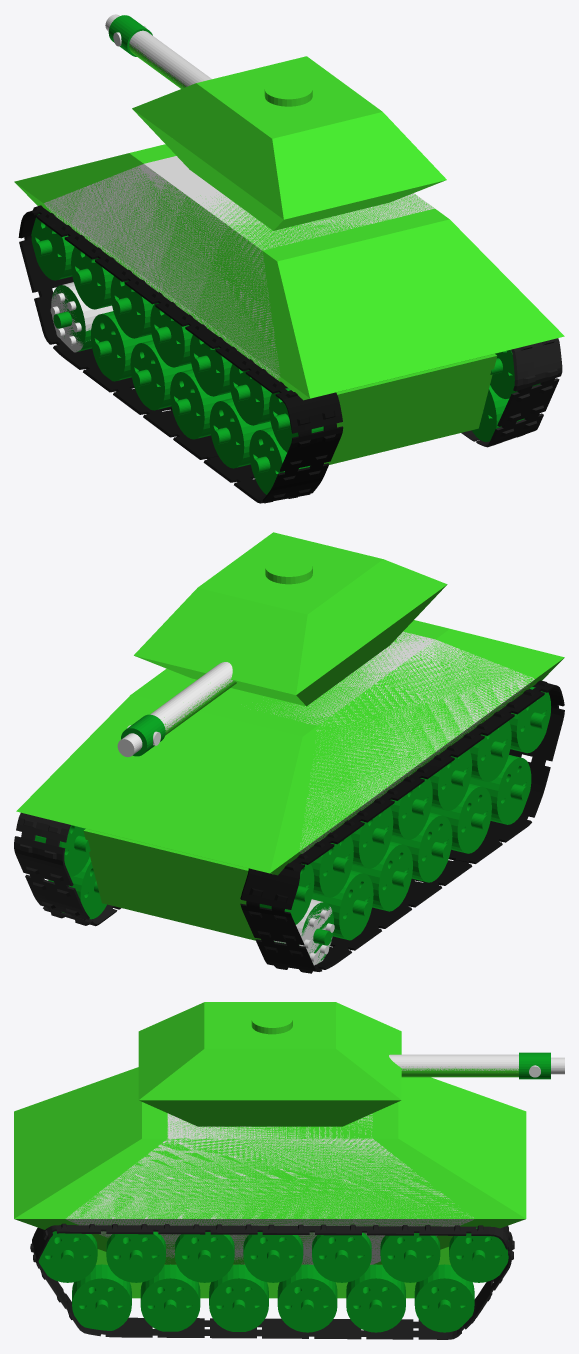
The model's file is tank.fbx.
3 views of the same model, one above another, from view 1: azimuth 30°, elevation 25°; view 2: azimuth 150°, elevation 25°; view 3: azimuth 270°, elevation 25° (orthographic). The views are drawn at different scales.
Visible parts, largest first — view 1: Tank (bottom).001, Top, Tank (bottom).003, Tack2, Cube, Track1, wheels.013, wheels.011, wheels.005, wheels.007, Extra, Tank (bottom) (+15 smaller); view 2: Tank (bottom).001, Top, Tack2, Tank (bottom).003, Cube, Track1, wheels.011, wheels.007, wheels.013, wheels.005, wheels.015, Extra (+14 smaller); view 3: Tank (bottom).001, Top, Tank (bottom).003, Track1, Tank (bottom).002, Tank (bottom), wheels.071, wheels.065, wheels.073, wheels.075, wheels.067, wheels.063 (+11 smaller).
Boxes of the visible parts, bbox=[...] form: Tank (bottom).001: bbox=[14, 144, 564, 398]; Top: bbox=[129, 43, 446, 230]; Tank (bottom).003: bbox=[44, 156, 434, 375]; Tack2: bbox=[18, 205, 343, 503]; Cube: bbox=[324, 354, 497, 464]; Track1: bbox=[461, 338, 562, 447]; wheels.013: bbox=[209, 398, 271, 468]; wheels.011: bbox=[170, 369, 231, 439]; wheels.005: bbox=[91, 311, 152, 381]; wheels.007: bbox=[130, 340, 192, 410]; Extra: bbox=[129, 30, 211, 86]; Tank (bottom): bbox=[14, 182, 540, 400]; Tank (bottom).001: bbox=[16, 620, 564, 873]; Top: bbox=[134, 532, 447, 735]; Tack2: bbox=[240, 680, 564, 973]; Tank (bottom).003: bbox=[257, 631, 534, 849]; Cube: bbox=[83, 829, 260, 940]; Track1: bbox=[14, 812, 121, 926]; wheels.011: bbox=[390, 812, 452, 882]; wheels.007: bbox=[351, 841, 412, 911]; wheels.013: bbox=[430, 783, 491, 853]; wheels.005: bbox=[311, 870, 373, 940]; wheels.015: bbox=[469, 755, 531, 824]; Extra: bbox=[150, 662, 232, 730]; Tank (bottom).001: bbox=[14, 1067, 526, 1218]; Top: bbox=[138, 1002, 518, 1126]; Tank (bottom).003: bbox=[66, 1113, 473, 1218]; Track1: bbox=[30, 1223, 514, 1339]; Tank (bottom).002: bbox=[66, 1219, 473, 1264]; Tank (bottom): bbox=[14, 1219, 525, 1264]; wheels.071: bbox=[277, 1264, 337, 1332]; wheels.065: bbox=[140, 1264, 200, 1331]; wheels.073: bbox=[346, 1264, 405, 1332]; wheels.075: bbox=[414, 1264, 474, 1332]; wheels.067: bbox=[209, 1264, 268, 1331]; wheels.063: bbox=[72, 1264, 131, 1330].
Size of what is drawn, in the model's own units: 406 by 429 by 804.
